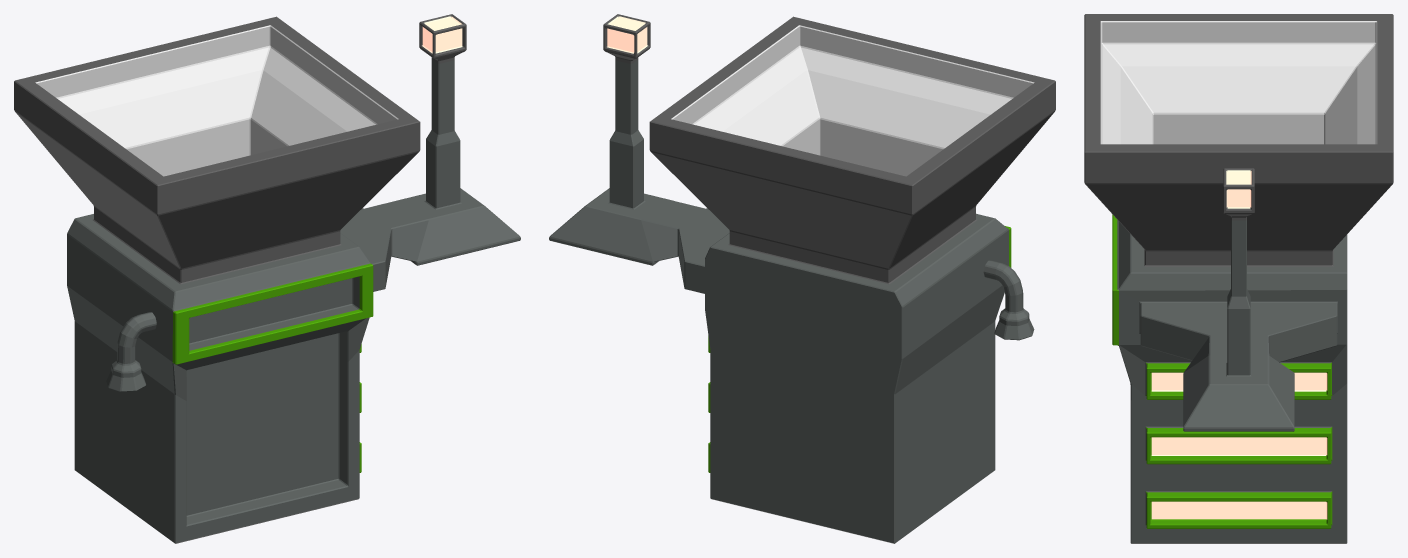
The model's file is Refillstation.fbx.
3 renders of one model, left to right at view 1: azimuth 30°, elevation 25°; view 2: azimuth 150°, elevation 25°; view 3: azimuth 270°, elevation 25°, orthographic. The views are drawn at different scales.
Visible parts, largest first — view 1: Machine, Tube; view 2: Machine, Tube; view 3: Machine.
Boxes of the visible parts, bbox=[...] form: Machine: bbox=[14, 14, 520, 543]; Tube: bbox=[106, 312, 156, 391]; Machine: bbox=[549, 14, 1055, 543]; Tube: bbox=[983, 260, 1034, 340]; Machine: bbox=[1084, 14, 1393, 543].
Size of the model in its own units: 513 by 472 by 302.
